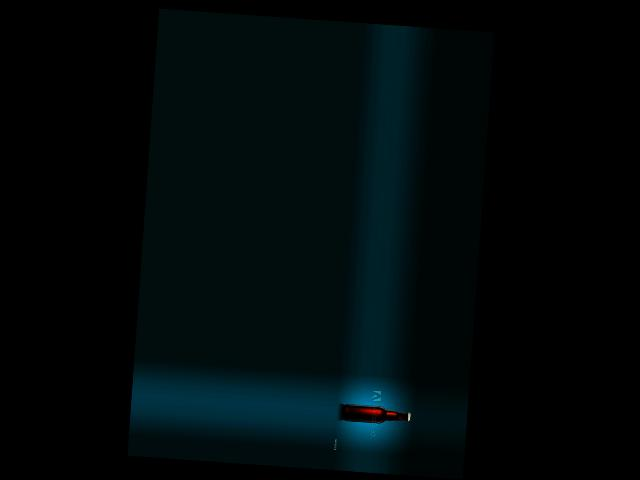beer: (342, 404, 410, 426)
